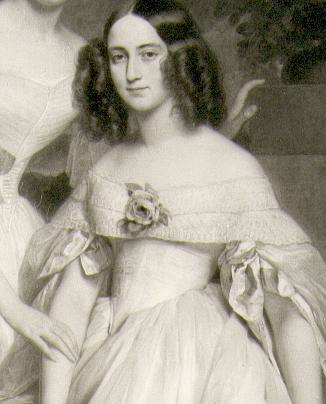person: (22, 3, 325, 403)
